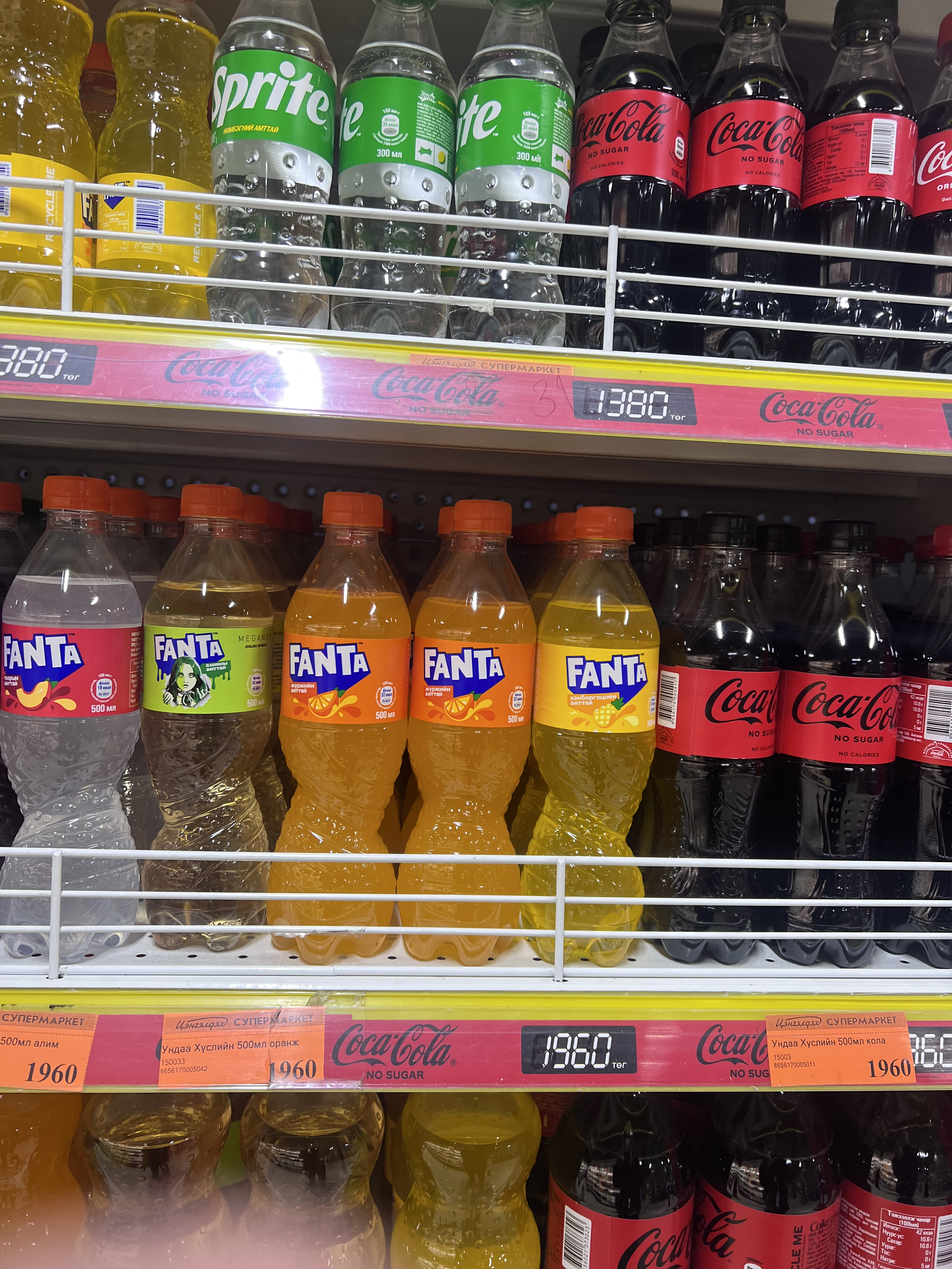coca_cola_500ml: (762, 520, 900, 967), (642, 513, 779, 861), (875, 525, 952, 969), (802, 0, 917, 252), (685, 0, 805, 240), (569, 0, 690, 231), (910, 13, 952, 301)
fanta_500ml: (0, 466, 133, 973), (268, 492, 409, 963), (139, 469, 269, 963), (398, 500, 536, 965), (535, 500, 639, 958)
